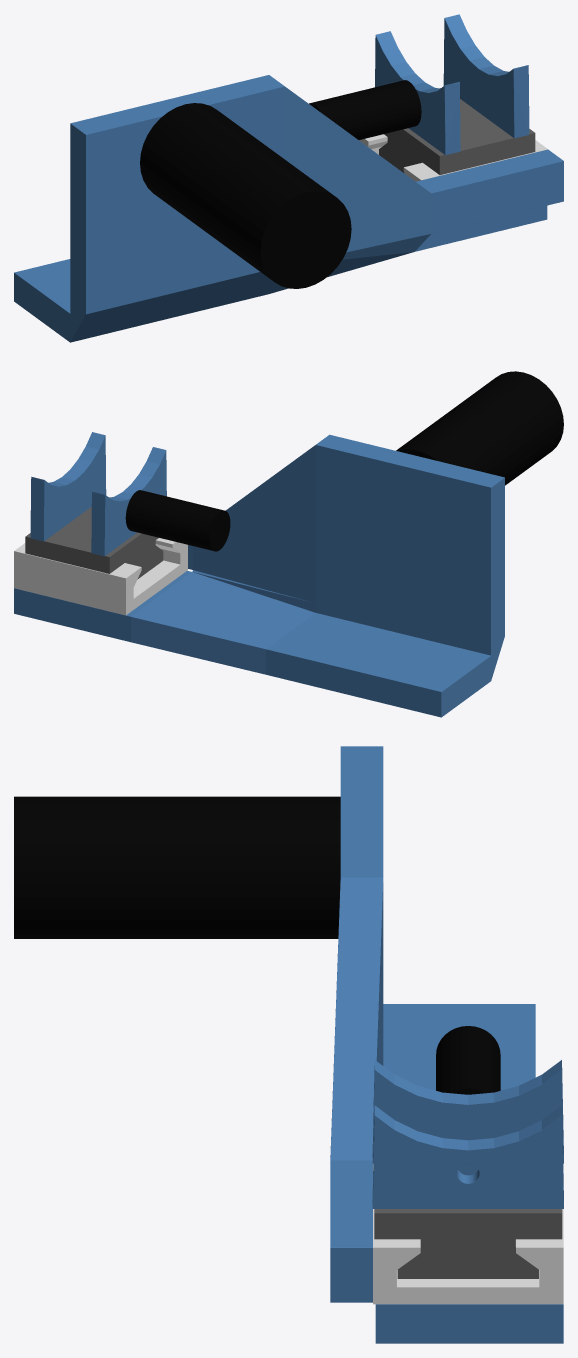
Rendered from VIS_ElbowWristLink.dae.
3 renders of one model, top to bottom at view 1: azimuth 30°, elevation 25°; view 2: azimuth 150°, elevation 25°; view 3: azimuth 270°, elevation 25°, orthographic. The views are drawn at different scales.
Visible parts, largest first — view 1: VIS_ElbowWristLink; view 2: VIS_ElbowWristLink; view 3: VIS_ElbowWristLink.
Part boxes in pixels (x1,y1,x2,y2): VIS_ElbowWristLink: (14, 14, 563, 342); VIS_ElbowWristLink: (14, 371, 563, 717); VIS_ElbowWristLink: (14, 746, 563, 1343).
Size of the model in its own units: 0.2499 by 0.1854 by 0.1137.
